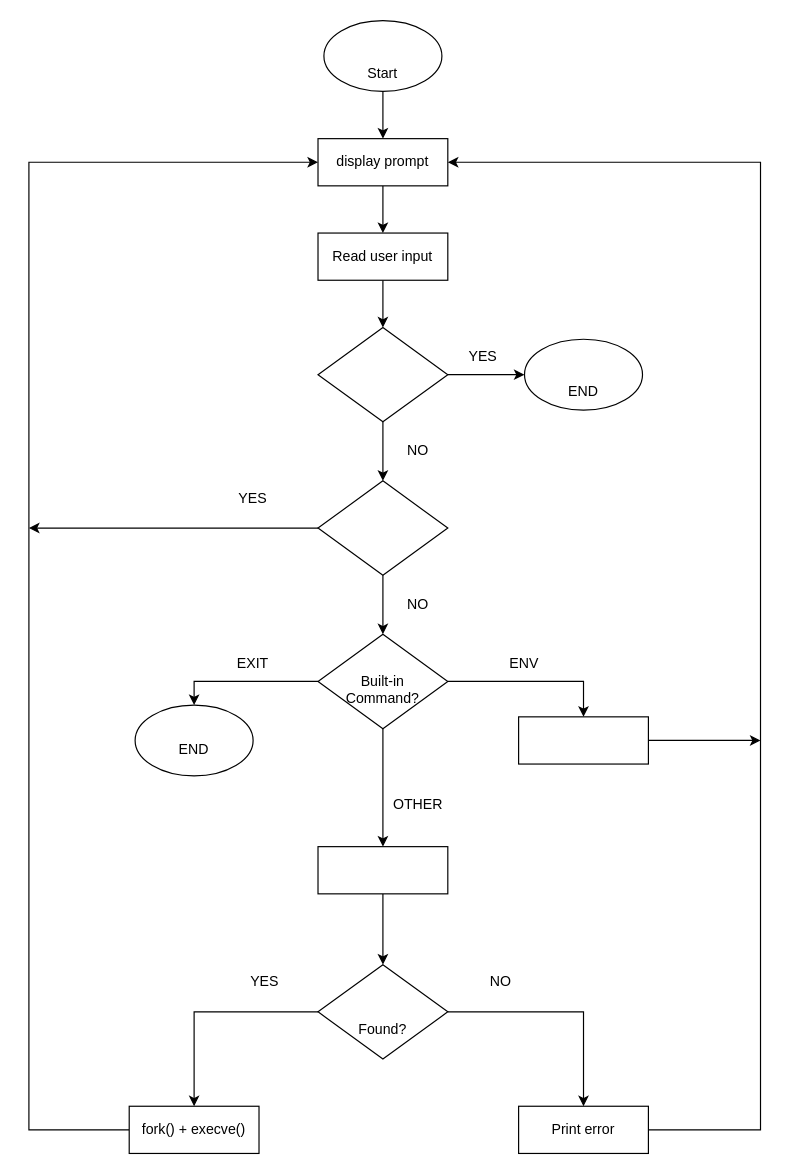
Some shapes in this 791 by 1174 pixel diagram are drawn without their labels. The shapes that lost their labels are listed below. From the top down, each one's centre as x and y in pixels, then its label:
the point at 382,374: EOF?
the point at 382,527: Empty input ?
the point at 582,740: Print environment
the point at 382,869: Find command in PATH
